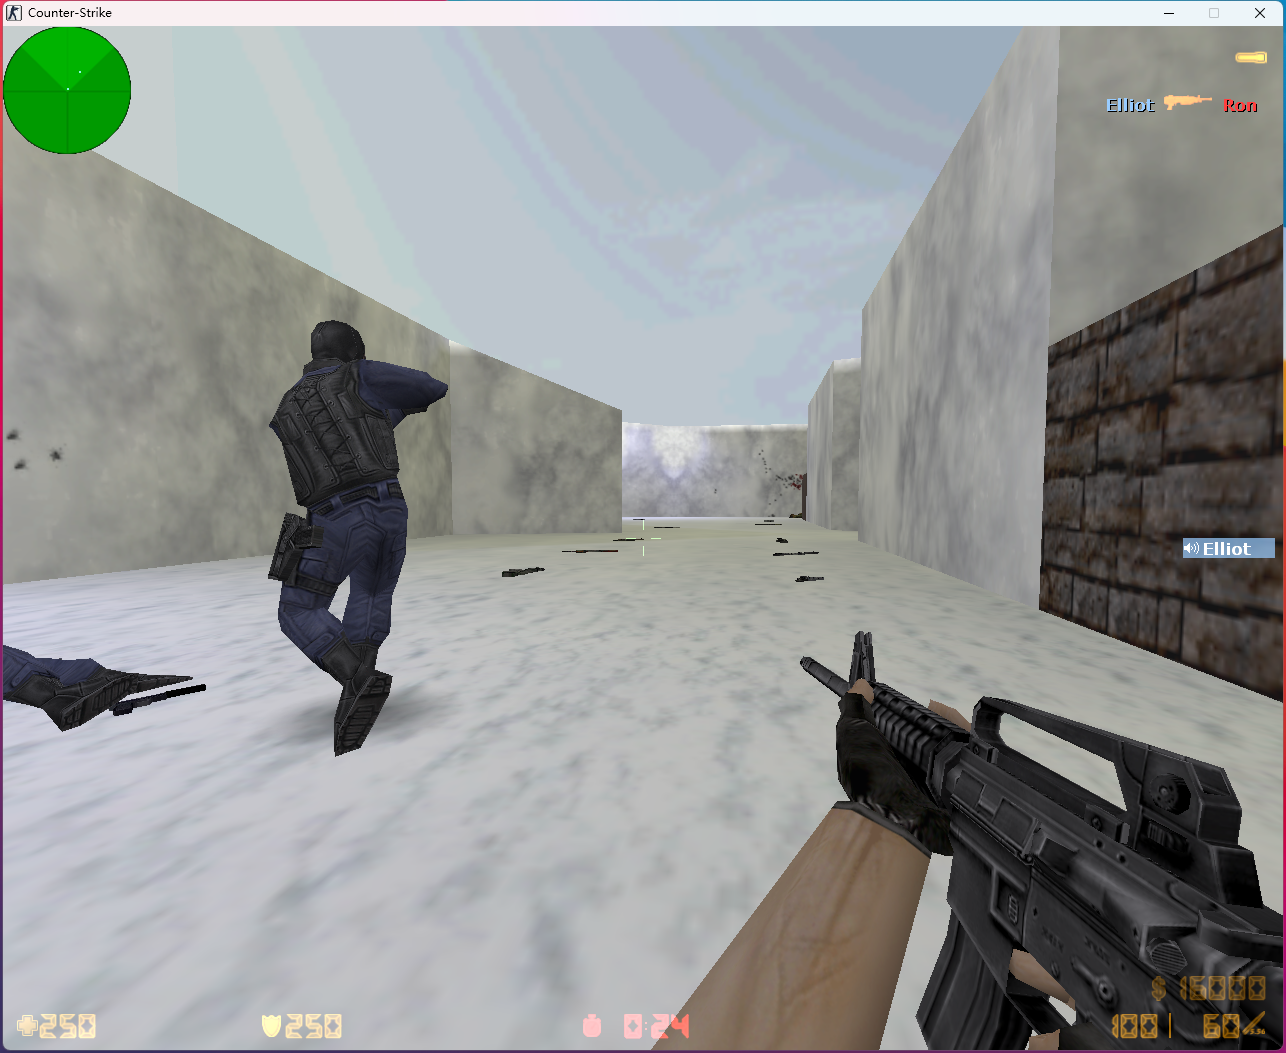C: (262, 318, 453, 757)
weapon: (497, 567, 546, 578), (793, 572, 822, 586), (561, 547, 620, 553), (770, 550, 820, 557), (754, 521, 781, 526), (618, 538, 642, 543), (775, 535, 787, 543)
